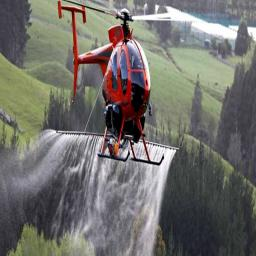helicopter: (57, 1, 170, 174)
